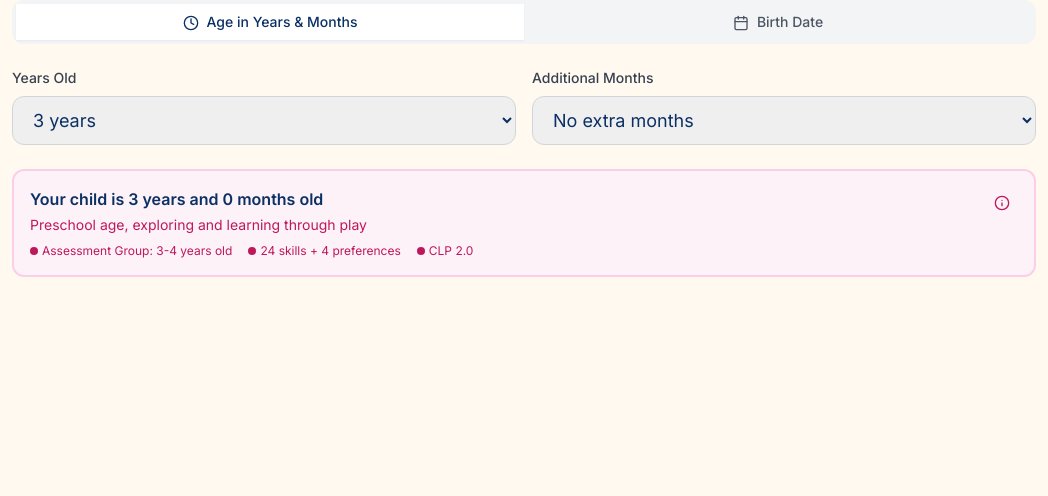
Test: PreciseAgeSelector › Developmental Information and Warnings › should show developmental information panel
Click the 3rd button.
click(1002, 203)  # box x1=986 y1=187 x2=1018 y2=219
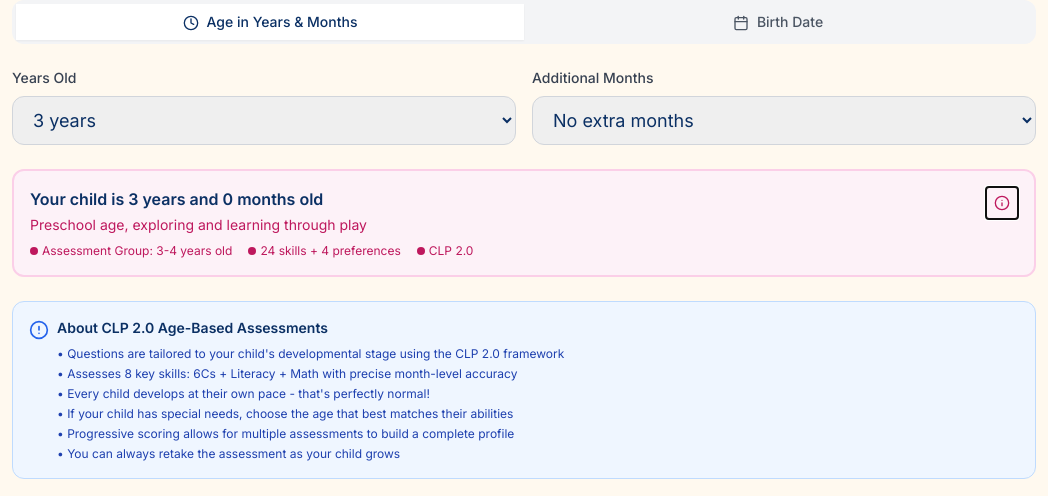
Expected: the heading "About CLP 2.0 Age-Based Assessments" is shown, x1=57 y1=319 x2=328 y2=336
Expected: the list item "Questions are tailored to your child's developmental stage" is shown, x1=57 y1=346 x2=564 y2=361
Expected: the list item "Assesses 8 key skills: 6Cs + Literacy + Math" is shown, x1=57 y1=366 x2=518 y2=381
